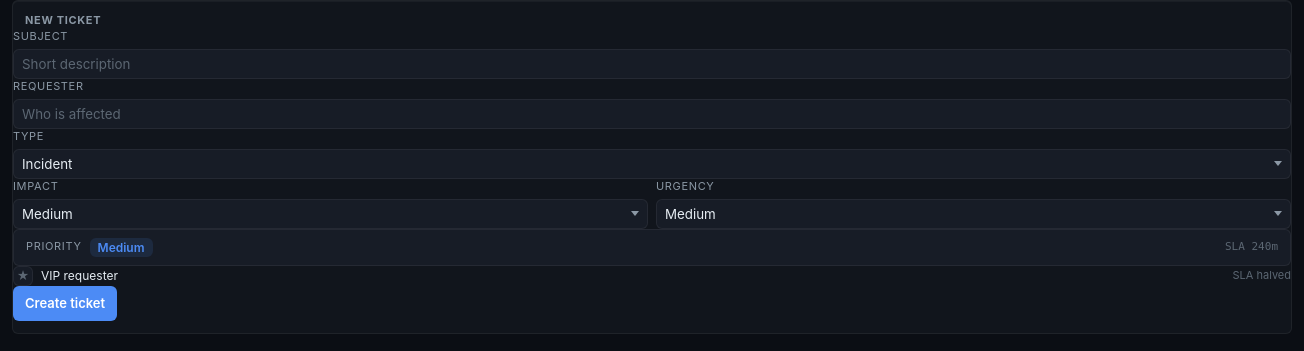
TicketForm › priority preview follows the matrix and VIP halves the SLA
expect the text "Medium" is shown: met, box [90,238,153,257]
expect the text "SLA 240m" is shown: met, box [1225,239,1278,255]
Select "High" in the dropdown labelled "Impact" at coordinates (330, 214), box [13,199,648,229]
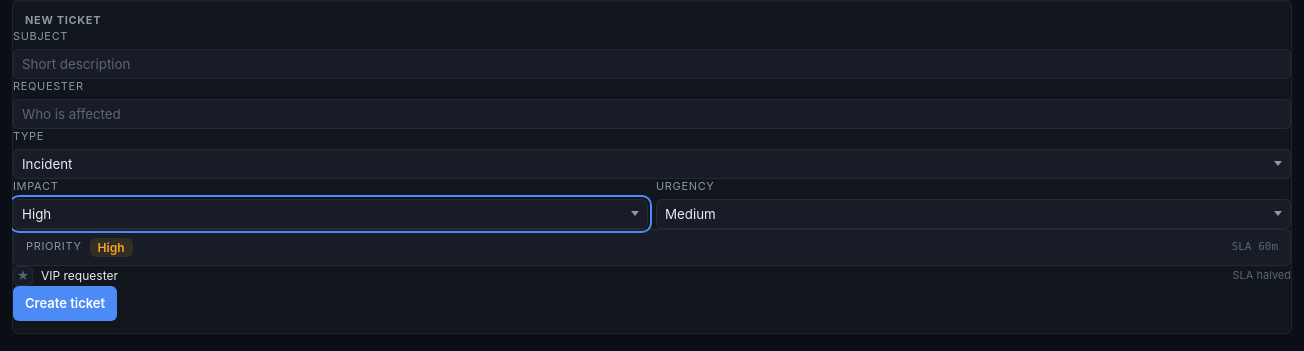
Select "High" in the dropdown labelled "Urgency" at coordinates (974, 214), box [656,199,1291,229]
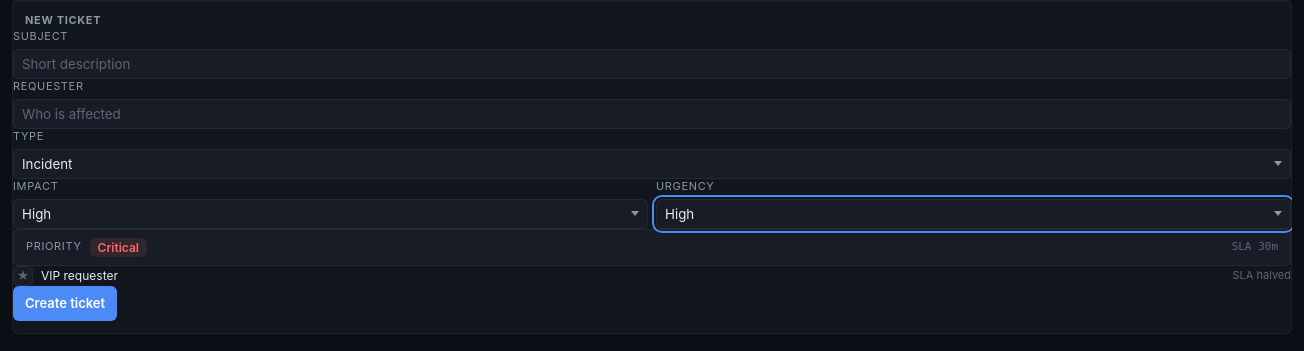
expect the text "Critical" is shown: met, box [90,238,147,257]
Click the checkbox labelled "★ VIP requester SLA halved" at coordinates (79, 276), box [13,266,1291,286]
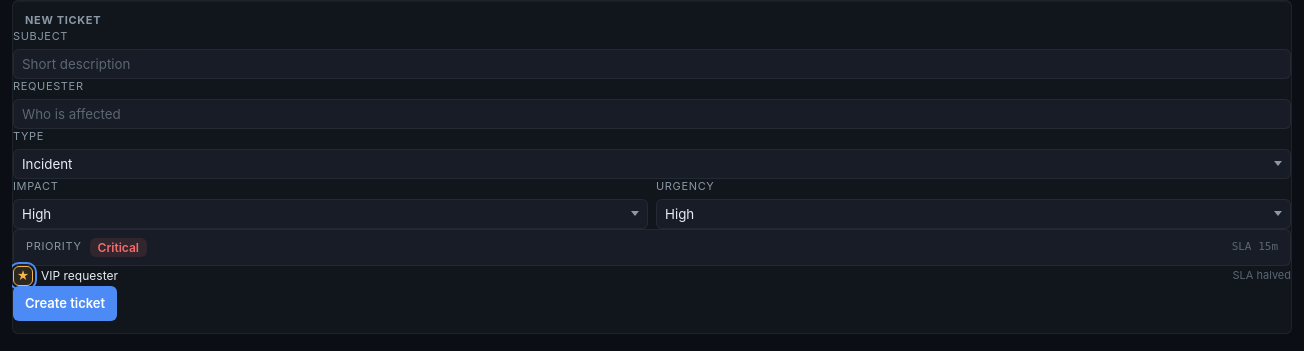
expect the text "SLA 15m" is shown: met, box [1232,239,1278,255]
